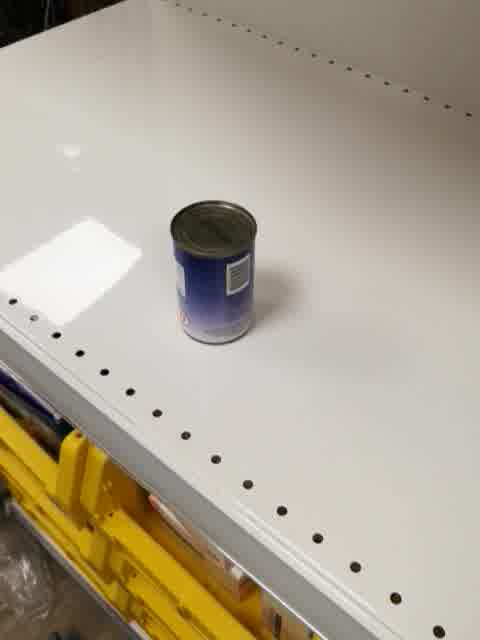sardine: (169, 200, 258, 346)
